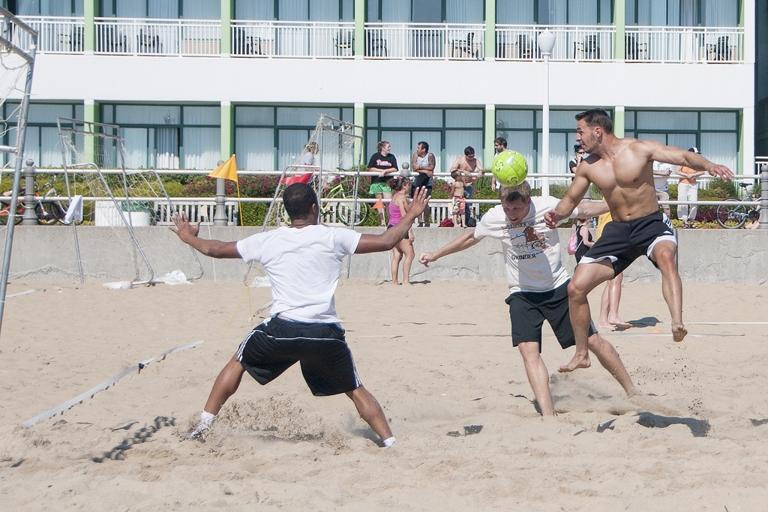non-vehicle: (279, 167, 369, 227), (1, 173, 73, 225), (714, 181, 767, 228)
